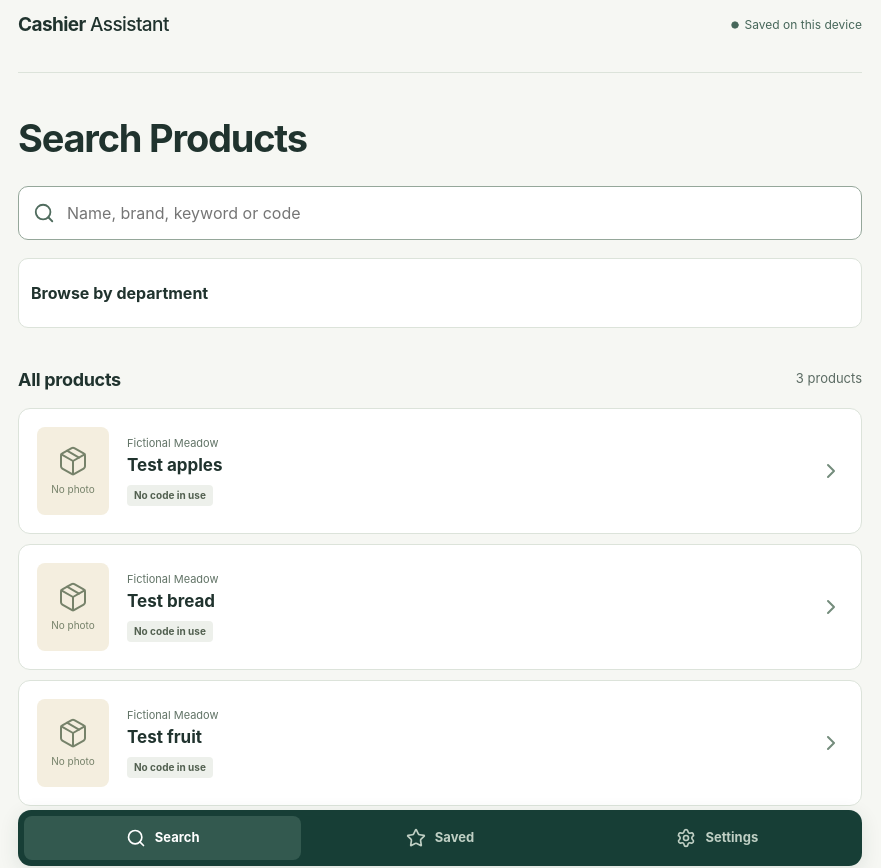
Scenario: filters a global query by department and clears classification without clearing the query
This screenshot has width=881, height=868.
Expected: the text "3 products" is shown, [796, 369, 862, 389]
Type "Test" into the search field.
click(456, 213); type("Test")  # box [65, 187, 847, 239]
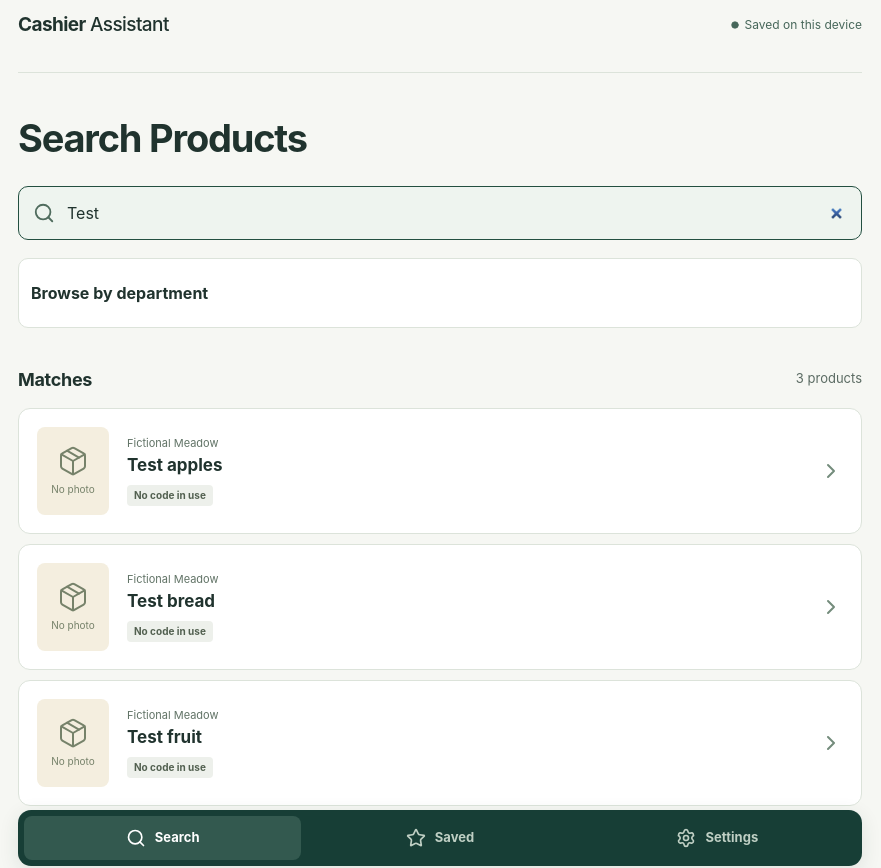
Click the heading "Browse by department".
click(120, 293)  # box [31, 283, 208, 303]
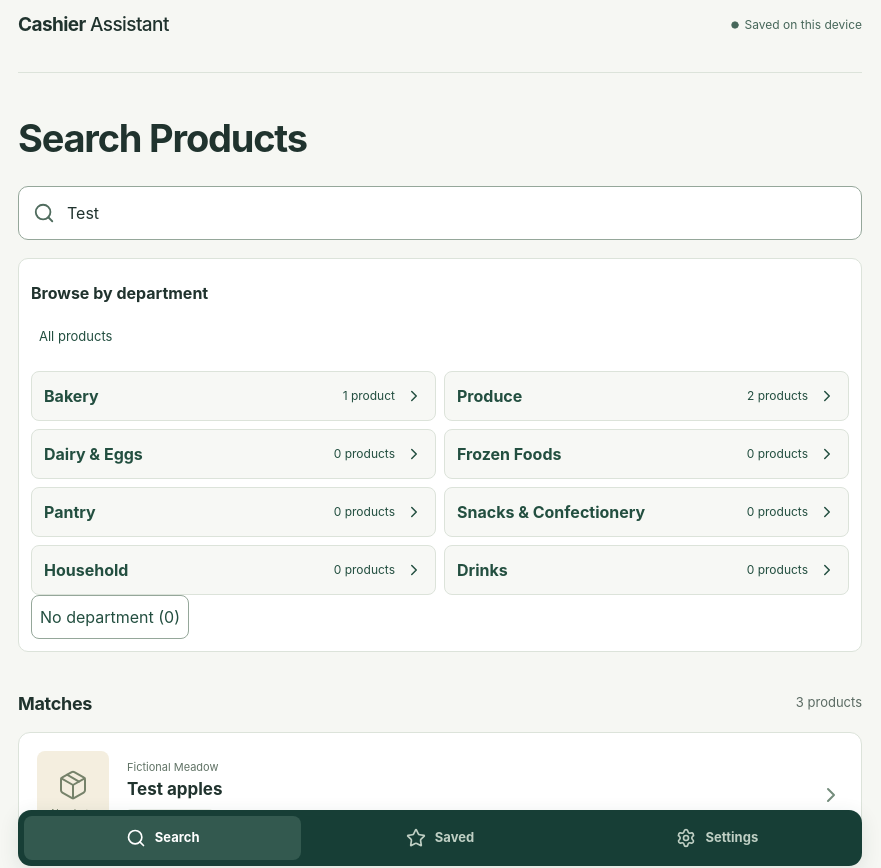
Click the button "Produce 2 products".
click(490, 396)  # box [444, 371, 849, 421]
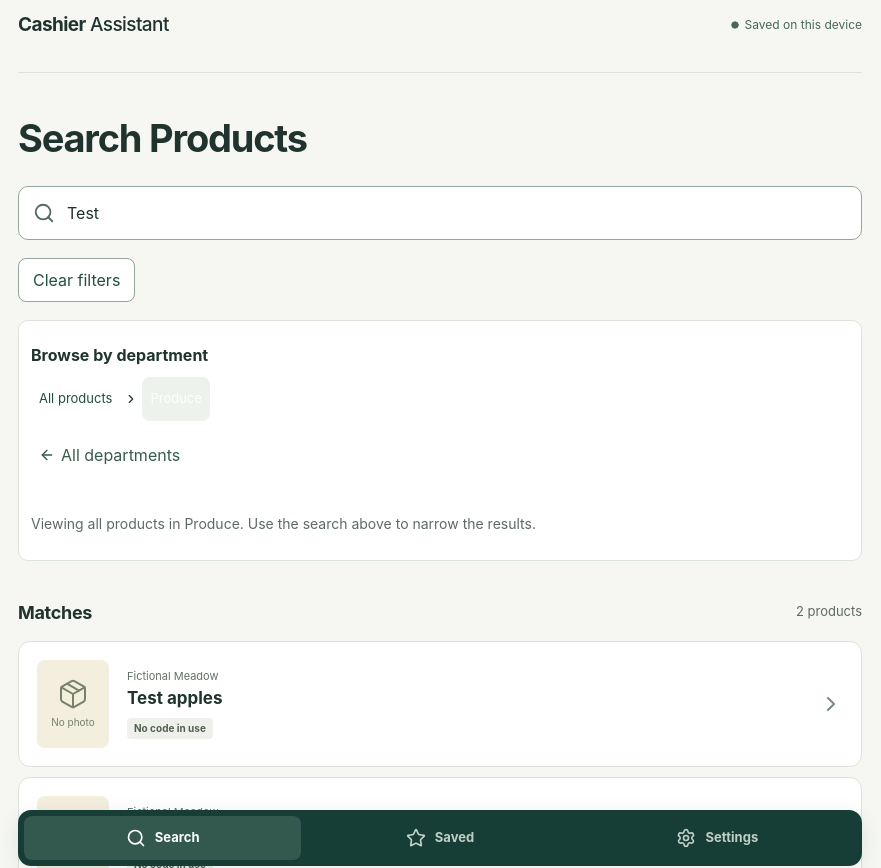
Expected: the message reads "2 products", [796, 602, 862, 622]
Click the button "Clear filters".
click(77, 280)  # box [18, 258, 135, 302]
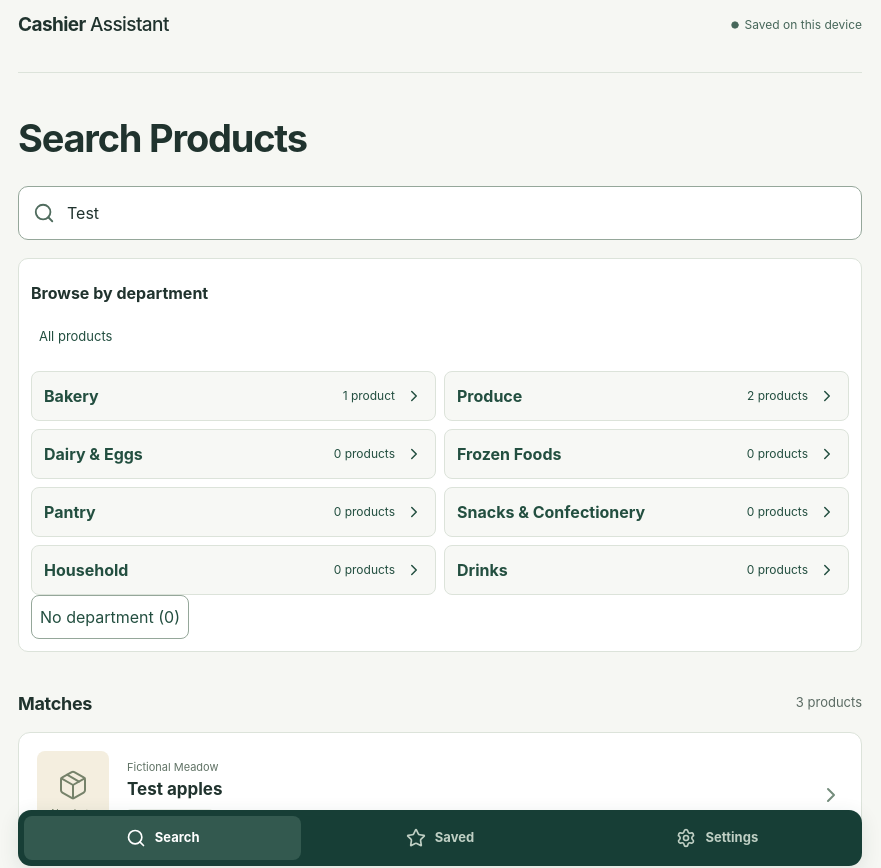
Expected: the message reads "3 products", [796, 693, 862, 713]
